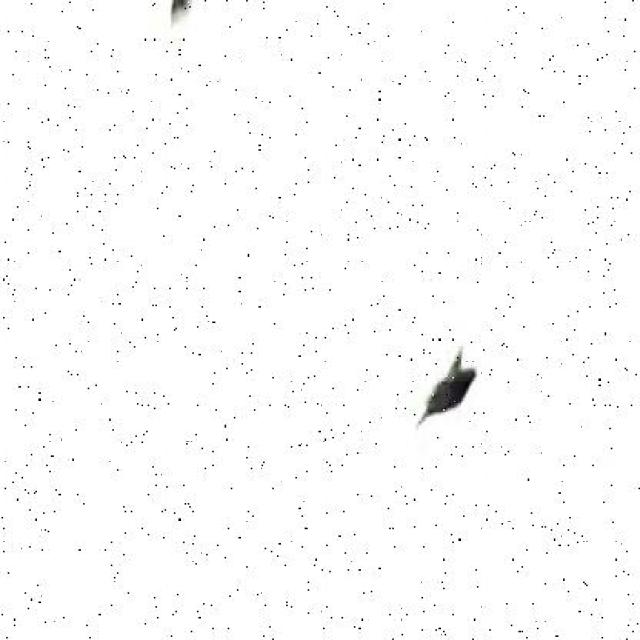bird: (403, 333, 479, 447), (152, 0, 243, 40)
